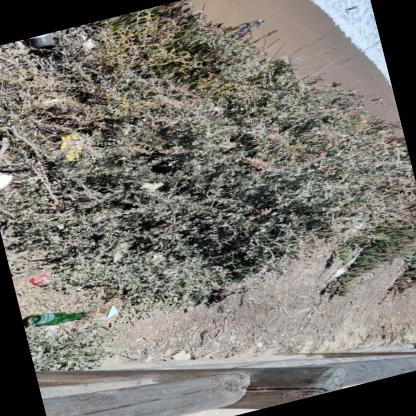Paper: (135, 336, 142, 342)
Plastic: (22, 312, 86, 327), (59, 134, 84, 161), (28, 33, 55, 51), (109, 242, 126, 264)
Waste: (28, 274, 51, 287), (79, 32, 95, 49), (140, 182, 163, 191), (0, 173, 12, 190), (40, 99, 66, 106), (171, 352, 191, 360), (106, 305, 117, 319), (330, 268, 345, 278), (92, 314, 107, 321)
